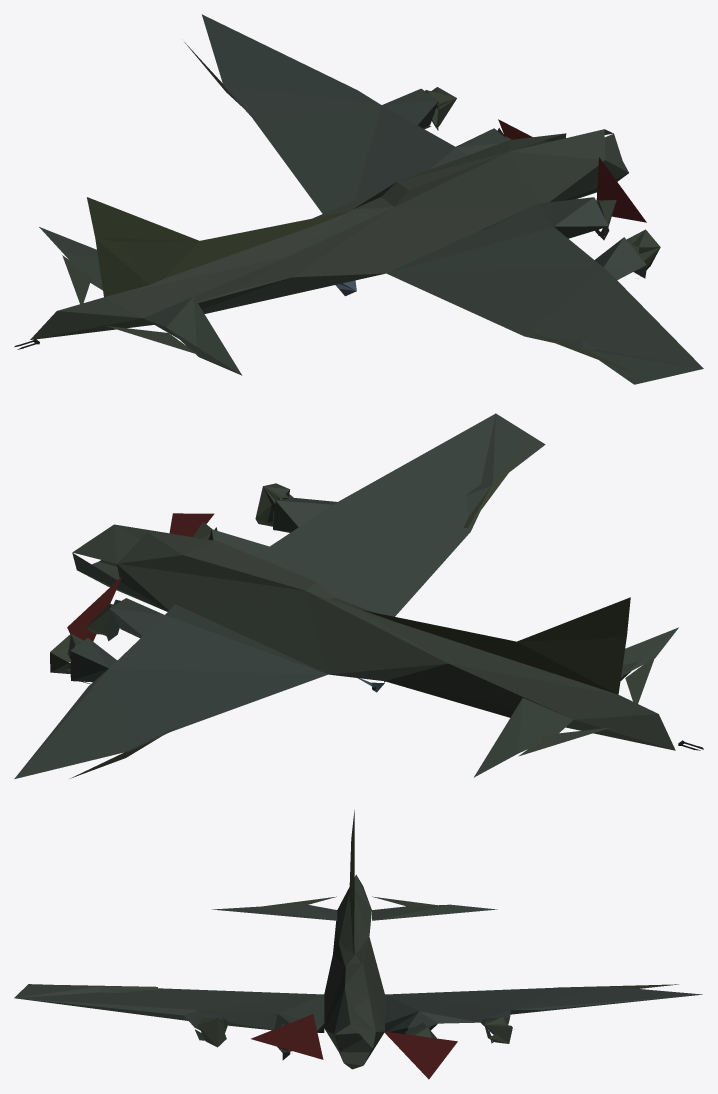
3 views of the same model, one above another, from view 1: azimuth 30°, elevation 25°; view 2: azimuth 150°, elevation 25°; view 3: azimuth 270°, elevation 25° (orthographic). The views are drawn at different scales.
Parts seen in each view (by area): view 1: Object38-FACES; view 2: Object38-FACES; view 3: Object38-FACES.
Boxes of the visible parts, box(x1,y1,x2,y2) form: Object38-FACES: box(30, 14, 703, 384); Object38-FACES: box(14, 413, 678, 779); Object38-FACES: box(14, 810, 702, 1079).
Bounding box in the file's own units: 22.46 × 5.57 × 31.04.
